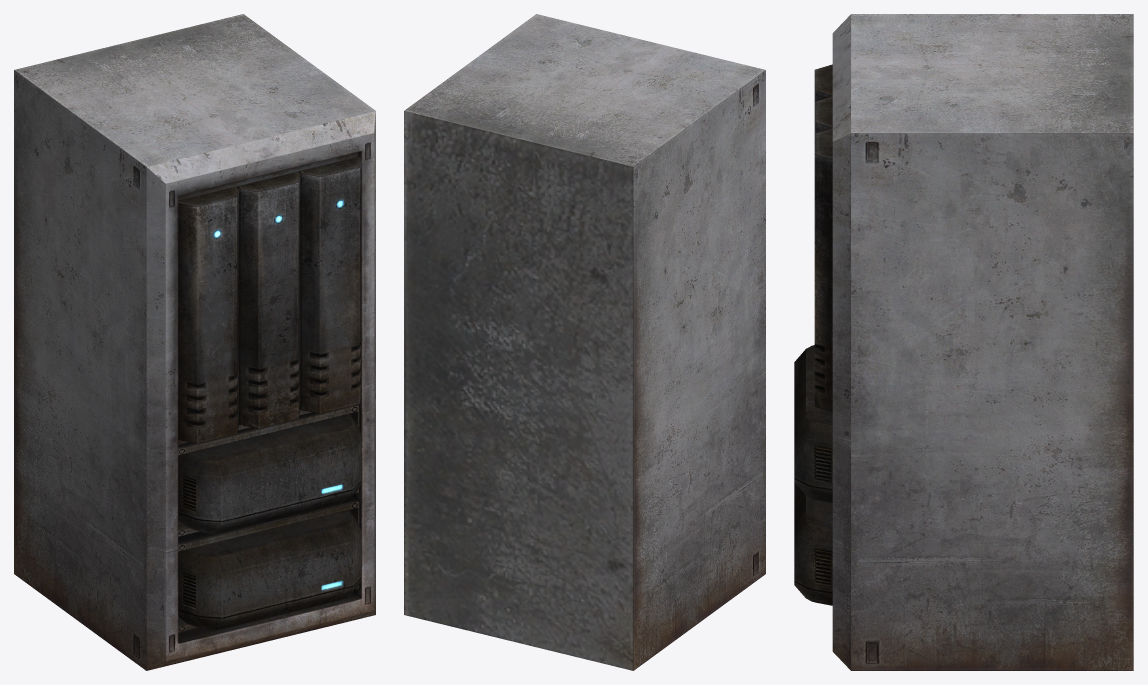
The model's file is server_theta_02.dae.
3 views of the same model, side by side, from view 1: azimuth 30°, elevation 25°; view 2: azimuth 150°, elevation 25°; view 3: azimuth 270°, elevation 25° (orthographic). The views are drawn at different scales.
Parts seen in each view (by area): view 1: server_theta_02; view 2: server_theta_02; view 3: server_theta_02.
Part boxes in pixels (x1,y1,x2,y2): server_theta_02: (14,14,375,670); server_theta_02: (404,14,765,670); server_theta_02: (794,14,1133,670).
Size of the model in its own units: 0.9584 by 2.01 by 1.15.
